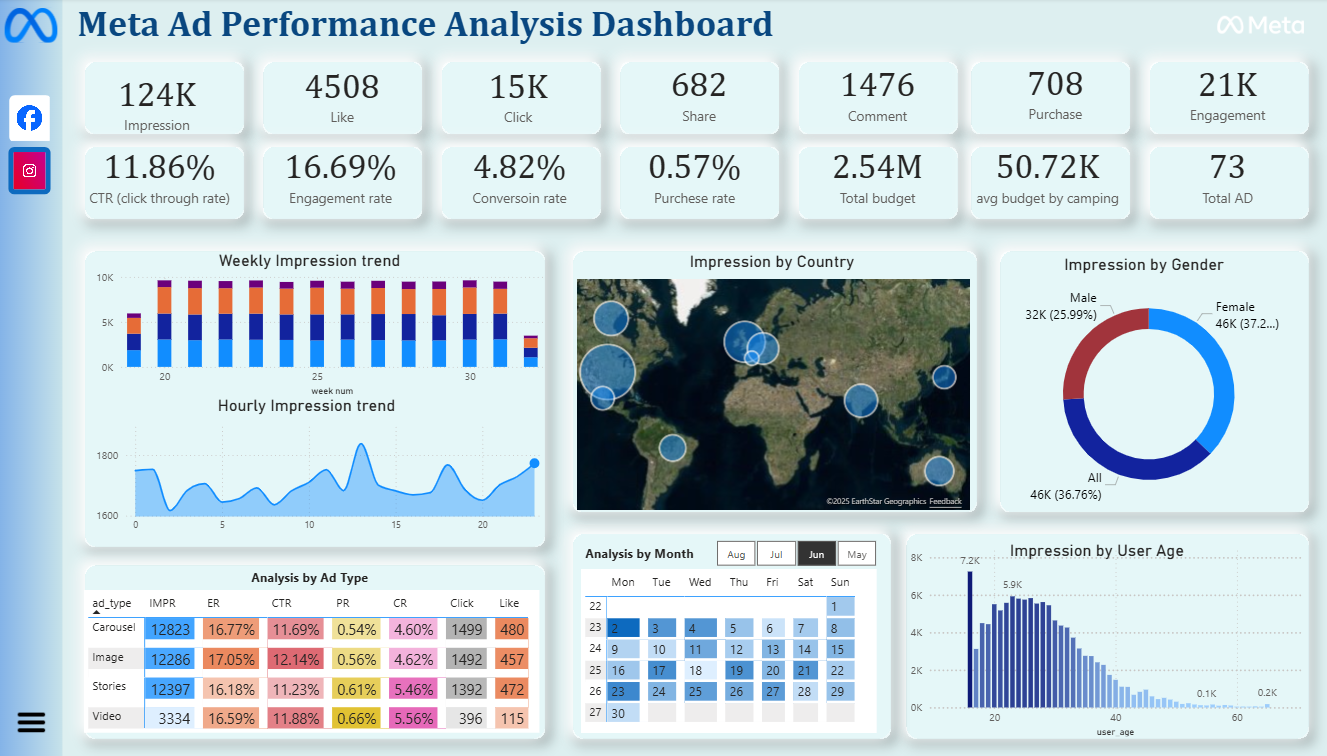

The dashboard page shown, as its layout file describes it:
{"tool":"powerbi","page":{"name":"Dashboard","canvas":[1570,899],"ordinal":0},"visuals":[{"type":"group","id":"g1","title":"Group 1","box":[90,-1,880.8,103.3],"z":0},{"type":"card","fields":{"Values":["_measure.Impression"]},"box":[89.7,78.3,197.5,85.1],"z":1000},{"type":"advancedSlicerVisual","fields":{"Values":["logo of platform.platform "]},"box":[8.8,108.2,60,129.4],"z":2000},{"type":"card","fields":{"Values":["_measure.Share"]},"box":[725.7,65.7,200,88.6],"z":3000},{"type":"card","fields":{"Values":["_measure.Like"]},"box":[312.2,69.2,188.4,85.1],"z":4000},{"type":"card","fields":{"Values":["_measure.Comment"]},"box":[939.9,62.4,191.8,95.3],"z":5000},{"type":"card","fields":{"Values":["_measure.Click"]},"box":[518.7,64.7,188.4,94.2],"z":6000},{"type":"textbox","box":[90,-1,880.8,103.3],"z":7000,"group":"g1"},{"type":"card","fields":{"Values":["_measure.Purchase"]},"box":[1157.6,61.3,174.8,94.2],"z":7000},{"type":"card","fields":{"Values":["_measure.Engagement"]},"box":[1351.9,62.4,191.8,94.2],"z":8000},{"type":"card","fields":{"Values":["_measure.CTR (click through rate)"]},"box":[95.3,163.5,191.8,86.3],"z":9000},{"type":"card","fields":{"Values":["_measure.Engagement rate"]},"box":[308.7,163.5,191.8,86.3],"z":10000},{"type":"card","fields":{"Values":["_measure.Conversoin rate"]},"box":[518.7,163.5,191.8,86.3],"z":11000},{"type":"card","fields":{"Values":["_measure.Purchese rate"]},"box":[725.3,163.5,191.8,86.3],"z":12000},{"type":"card","fields":{"Values":["_measure.total budget"]},"box":[939.9,163.5,191.8,86.3],"z":13000},{"type":"card","fields":{"Values":["_measure.avg budget by camping"]},"box":[1140.8,163.5,191.8,86.3],"z":14000},{"type":"card","fields":{"Values":["_measure.Total AD"]},"box":[1351.9,163.5,191.8,86.3],"z":15000},{"type":"donutChart","fields":{"Y":["_measure.Impression"],"Category":["ads.target_gender"]},"box":[1157.5,322.5,395,287.5],"z":16000},{"type":"card","fields":{"Values":["_measure.gender title"]},"box":[1174.8,291.7,350.7,44.3],"z":17000},{"type":"columnChart","fields":{"Y":["_measure.Impression"],"Category":["users.user_age"]},"box":[1070.4,637.9,473.3,236.1],"z":18000},{"type":"card","fields":{"Values":["_measure.age title"]},"box":[1119.2,632.3,350.7,35.2],"z":19000},{"type":"card","fields":{"Values":["_measure.map title"]},"box":[736.3,291.6,350.8,35.4],"z":21000},{"type":"pivotTable","fields":{"Rows":["Calender.week num"],"Columns":["Calender.Day name"],"Values":["Min(Calender.Day num)"]},"box":[687.9,671.6,347.7,193.1],"z":22000},{"type":"slicer","fields":{"Values":["Calender.month"]},"box":[821.8,632.3,237.2,43.1],"z":23000},{"type":"textbox","box":[687.9,637.9,139.6,30.6],"z":24000},{"type":"azureMap","fields":{"Size":["_measure.Impression"],"Category":["users.country"]},"box":[677.8,325.6,472.2,282.2],"z":25000},{"type":"columnChart","fields":{"Y":["_measure.Impression"],"Category":["Calender.week num"],"Series":["ads.ad_type"]},"box":[111.2,314.4,535.8,158.9],"z":26000},{"type":"card","fields":{"Values":["_measure.weekly title"]},"box":[191.8,290.6,351.9,35.2],"z":27000},{"type":"areaChart","fields":{"Y":["_measure.Impression"],"Category":["ad_events.event hour"]},"box":[111.2,488.1,535.8,149.8],"z":28000},{"type":"card","fields":{"Values":["_measure.Hourly title"]},"box":[188.4,460.9,351.9,35.2],"z":29000},{"type":"pivotTable","fields":{"Rows":["ads.ad_type"],"Values":["_measure.Impression","_measure.Engagement rate","_measure.CTR (click through rate)","_measure.Purchese rate","_measure.Conversoin rate","_measure.Click","_measure.Like"]},"box":[102.5,696.2,536.2,168.5],"z":30000},{"type":"textbox","box":[294.5,666.4,152.7,30],"z":31000},{"type":"image","box":[1431.4,12.5,112.4,36.3],"z":32000},{"type":"actionButton","box":[16.5,834.4,43.5,40],"z":34504},{"type":"actionButton","box":[201.9,736.8,40.7,39.2],"z":34505}]}

Visuals, with their boxes on the page's 1570x899 design canvas (x1, y1, x2, y2). These are canvas units, not pixel positions in the 1327x756 screenshot, which may show the page scaled, cropped or inside an application window:
"Group 1" group: <region>90, -1, 971, 102</region>
card - _measure.Impression: <region>90, 78, 287, 163</region>
advancedSlicerVisual - logo of platform.platform : <region>9, 108, 69, 238</region>
card - _measure.Share: <region>726, 66, 926, 154</region>
card - _measure.Like: <region>312, 69, 501, 154</region>
card - _measure.Comment: <region>940, 62, 1132, 158</region>
card - _measure.Click: <region>519, 65, 707, 159</region>
textbox: <region>90, -1, 971, 102</region>
card - _measure.Purchase: <region>1158, 61, 1332, 156</region>
card - _measure.Engagement: <region>1352, 62, 1544, 157</region>
card - _measure.CTR (click through rate): <region>95, 164, 287, 250</region>
card - _measure.Engagement rate: <region>309, 164, 500, 250</region>
card - _measure.Conversoin rate: <region>519, 164, 710, 250</region>
card - _measure.Purchese rate: <region>725, 164, 917, 250</region>
card - _measure.total budget: <region>940, 164, 1132, 250</region>
card - _measure.avg budget by camping: <region>1141, 164, 1333, 250</region>
card - _measure.Total AD: <region>1352, 164, 1544, 250</region>
donutChart - _measure.Impression x ads.target_gender: <region>1158, 322, 1552, 610</region>
card - _measure.gender title: <region>1175, 292, 1526, 336</region>
columnChart - _measure.Impression x users.user_age: <region>1070, 638, 1544, 874</region>
card - _measure.age title: <region>1119, 632, 1470, 668</region>
card - _measure.map title: <region>736, 292, 1087, 327</region>
pivotTable - Calender.week num x Calender.Day name: <region>688, 672, 1036, 865</region>
slicer - Calender.month: <region>822, 632, 1059, 675</region>
textbox: <region>688, 638, 828, 668</region>
azureMap - _measure.Impression x users.country: <region>678, 326, 1150, 608</region>
columnChart - _measure.Impression x Calender.week num: <region>111, 314, 647, 473</region>
card - _measure.weekly title: <region>192, 291, 544, 326</region>
areaChart - _measure.Impression x ad_events.event hour: <region>111, 488, 647, 638</region>
card - _measure.Hourly title: <region>188, 461, 540, 496</region>
pivotTable - ads.ad_type x _measure.Impression: <region>102, 696, 639, 865</region>
textbox: <region>294, 666, 447, 696</region>
image: <region>1431, 12, 1544, 49</region>
actionButton: <region>16, 834, 60, 874</region>
actionButton: <region>202, 737, 243, 776</region>
